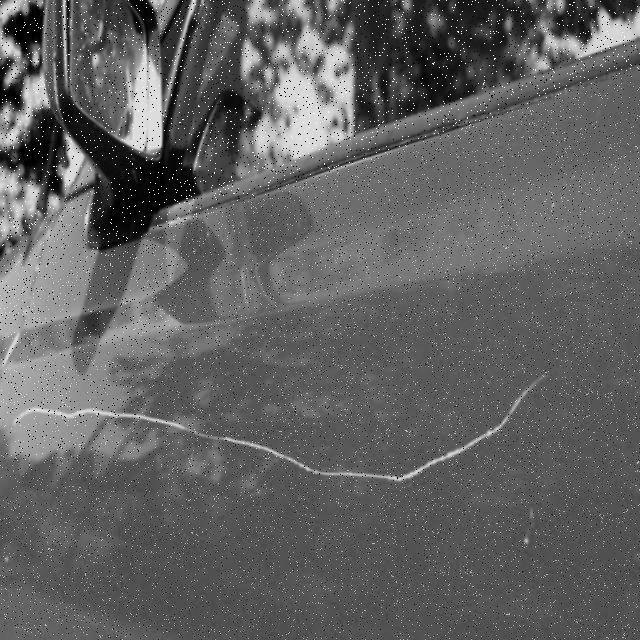doorouter-dent: (57, 113, 636, 640)
